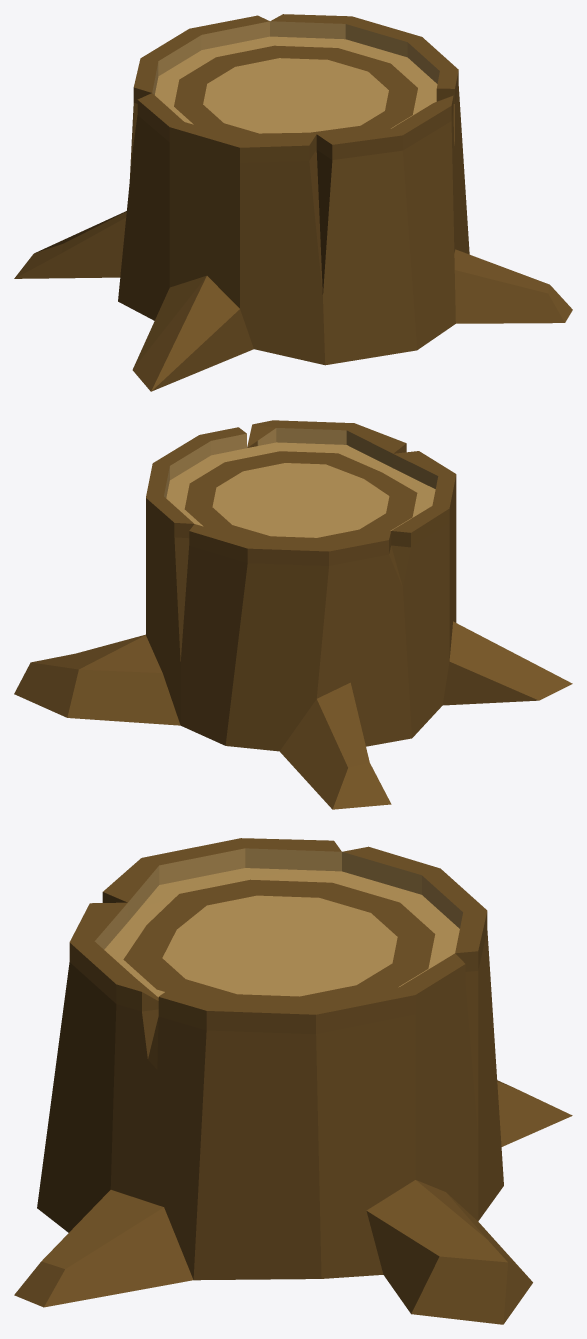
The model's file is tree_stump_medium.fbx.
3 views of the same model, one above another, from view 1: azimuth 30°, elevation 25°; view 2: azimuth 150°, elevation 25°; view 3: azimuth 270°, elevation 25° (orthographic). The views are drawn at different scales.
Visible parts, largest first — view 1: tree_stump_medium; view 2: tree_stump_medium; view 3: tree_stump_medium.
Part boxes in pixels (box(x1,y1,x2,y2)): tree_stump_medium: box(14, 14, 572, 391); tree_stump_medium: box(14, 420, 572, 809); tree_stump_medium: box(14, 838, 572, 1324).
Bounding box in the file's own units: 1.23 × 0.6001 × 1.08.
